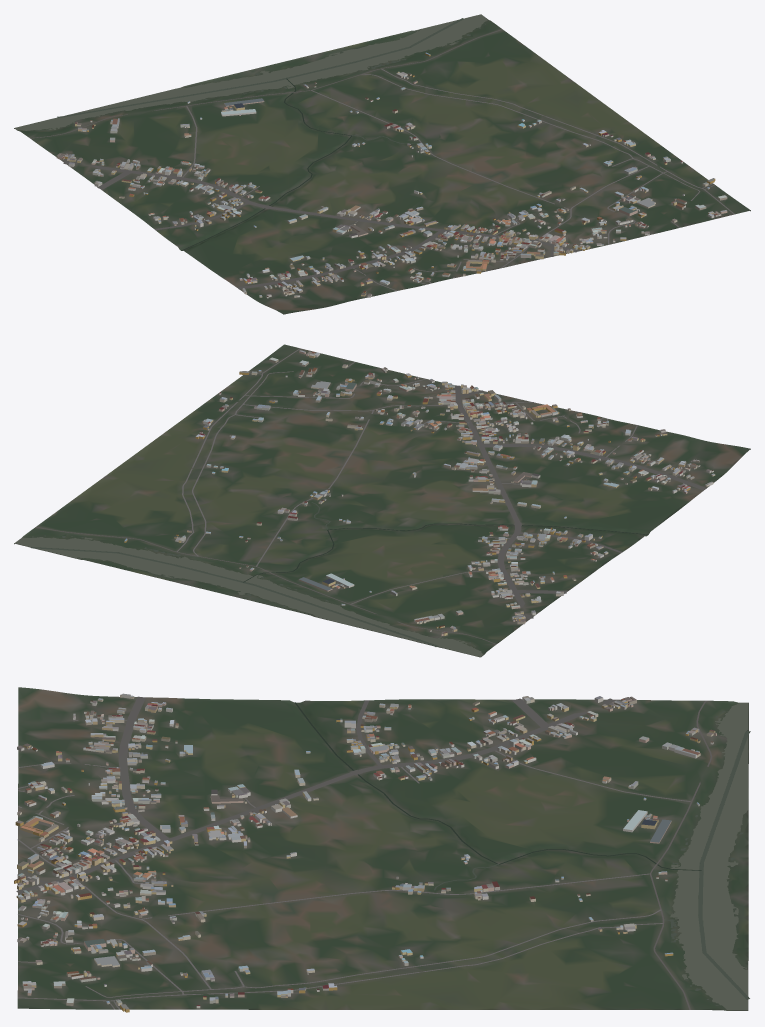
3 renders of one model, top to bottom at view 1: azimuth 30°, elevation 25°; view 2: azimuth 150°, elevation 25°; view 3: azimuth 270°, elevation 25°, orthographic. The views are drawn at different scales.
Visible parts, largest first — view 1: ground, buildings, water, roads; view 2: ground, buildings, water, roads; view 3: ground, buildings, water, roads.
Boxes of the visible parts, <box> form: ground: <box>14,14,750,314</box>; buildings: <box>56,52,727,298</box>; water: <box>15,14,488,250</box>; roads: <box>30,29,734,296</box>; ground: <box>14,344,750,657</box>; buildings: <box>124,350,715,635</box>; water: <box>15,502,648,656</box>; roads: <box>35,348,706,644</box>; ground: <box>17,687,748,1010</box>; buildings: <box>14,693,716,1012</box>; water: <box>294,702,750,1010</box>; roads: <box>16,696,712,1009</box>.
Bounding box in the file's own units: 1416 × 35.6 × 1413.
